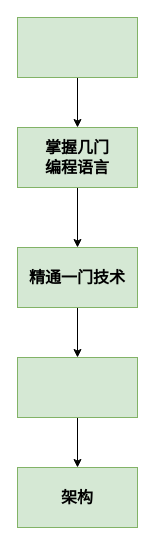
Some shapes in this 155 by 545 pixel diagram are drawn without their labels. The shapes that lost their labels are listed below. From the top down, each one's box as (x1, y1, x2, y2) in pixels, then its label:
(16, 16, 138, 78): 面向对象
(16, 356, 138, 418): 设计哲学
